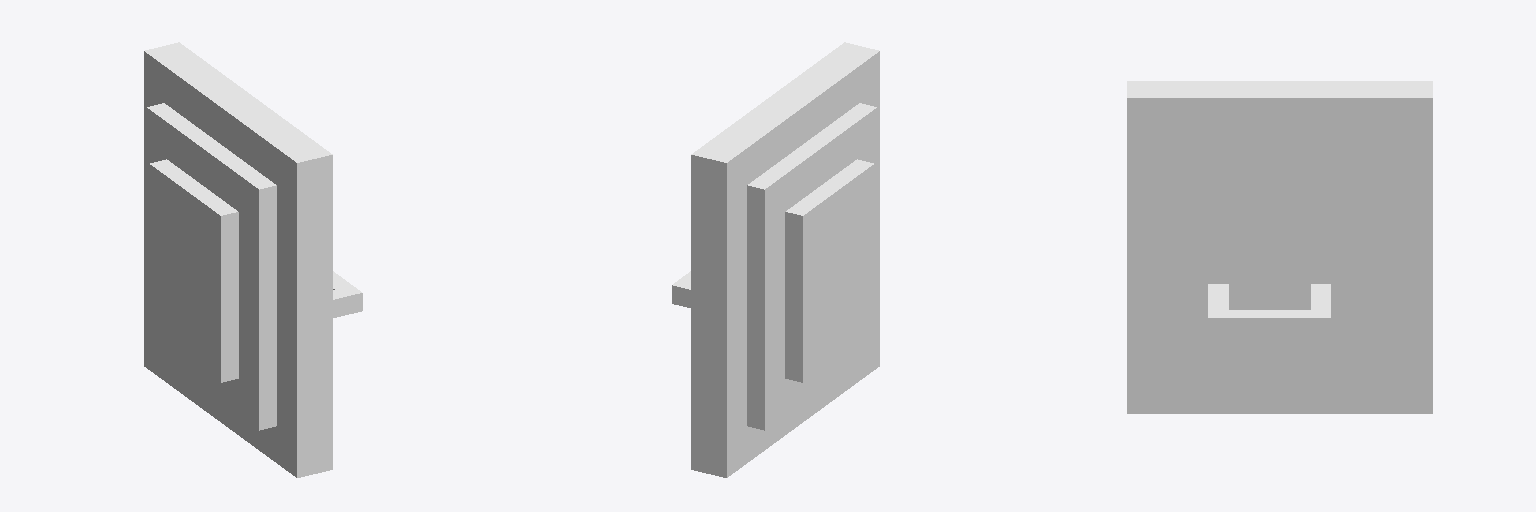
File: shiled.obj
3 views of the same model, side by side, from view 1: azimuth 30°, elevation 25°; view 2: azimuth 150°, elevation 25°; view 3: azimuth 270°, elevation 25° (orthographic).
Bounding box in the file's own units: 8 × 17 × 15.